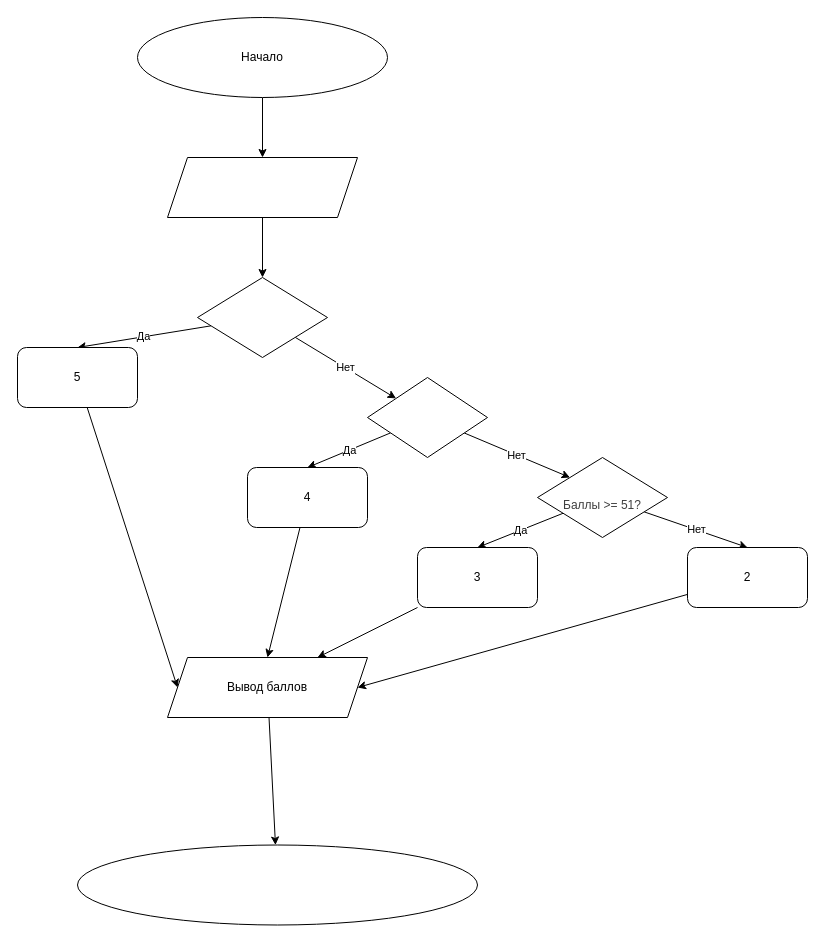
Image size: 825x943. Some labels were removed from this diagram. Here are the shapes that lost their labels. From the top down, the centre of each, then its label:
At (262,187): "Вход баллов".
At (262,317): "Баллы >= 91?".
At (427,417): "Баллы >= 71?".
At (277,884): "Конец".
